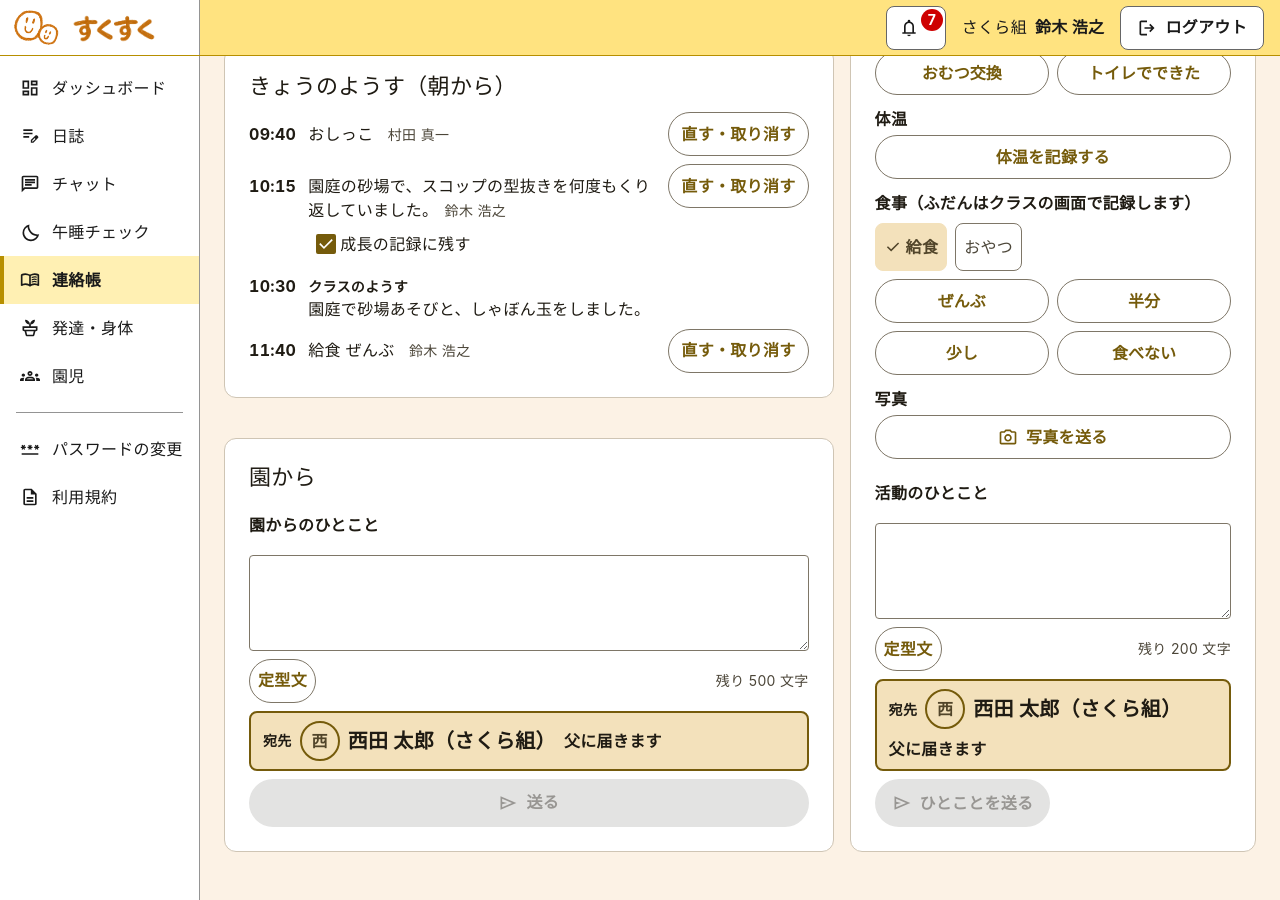
Test: 連絡帳（園児）画面：園からのひとこと › 定型文 → 候補 → 送るの3タップで送れる。「送る」のすぐ上に宛先（園児名・クラス・届く続柄）を大きく示す
(page scrolled)
Expected: the element "宛先" below "500" shows "西田 太郎（さくら組）", [249,711,809,771]
Expected: the element "宛先" below "500" shows "父に届きます", [564,731,662,751]
Click the button "定型文" in the row of "500".
click(282, 681)  # box [249,659,316,703]
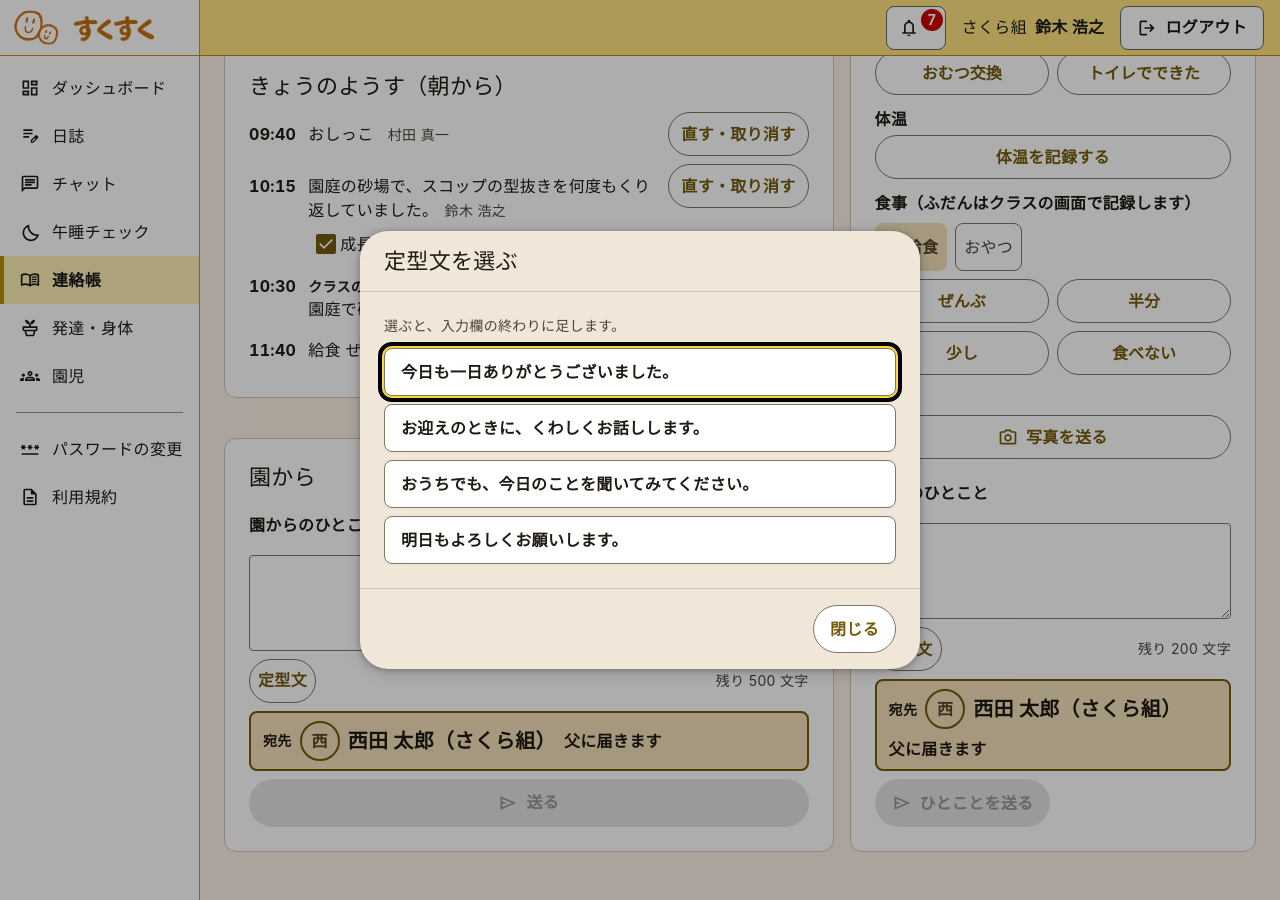
Click the button "今日も一日ありがとうございました。".
click(640, 372)  # box [384,348,896,396]
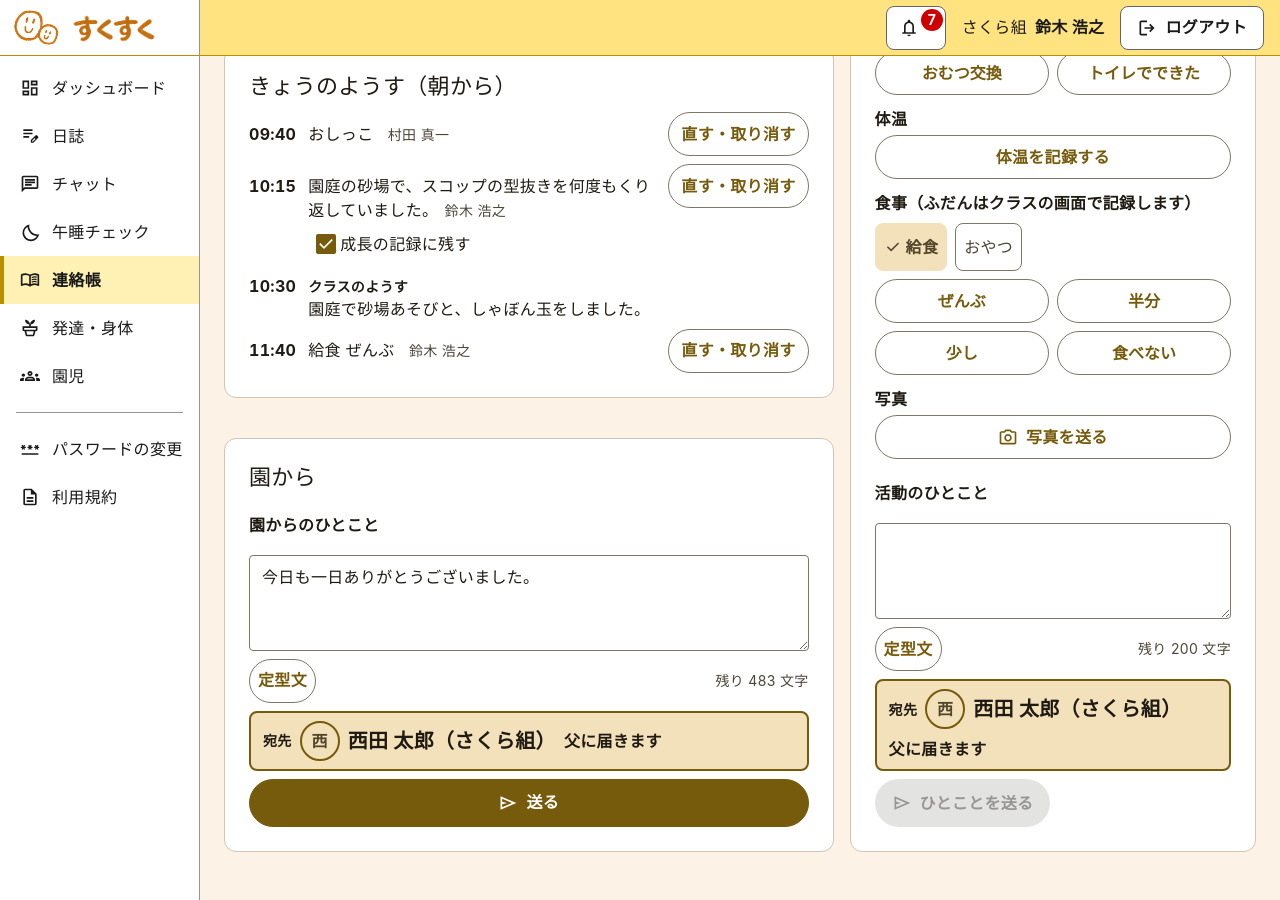
Expected: the text box labelled "園からのひとこと" holds "今日も一日ありがとうございました。", [249,555,809,651]
Click the button "送る".
click(529, 803)  # box [249,779,809,827]
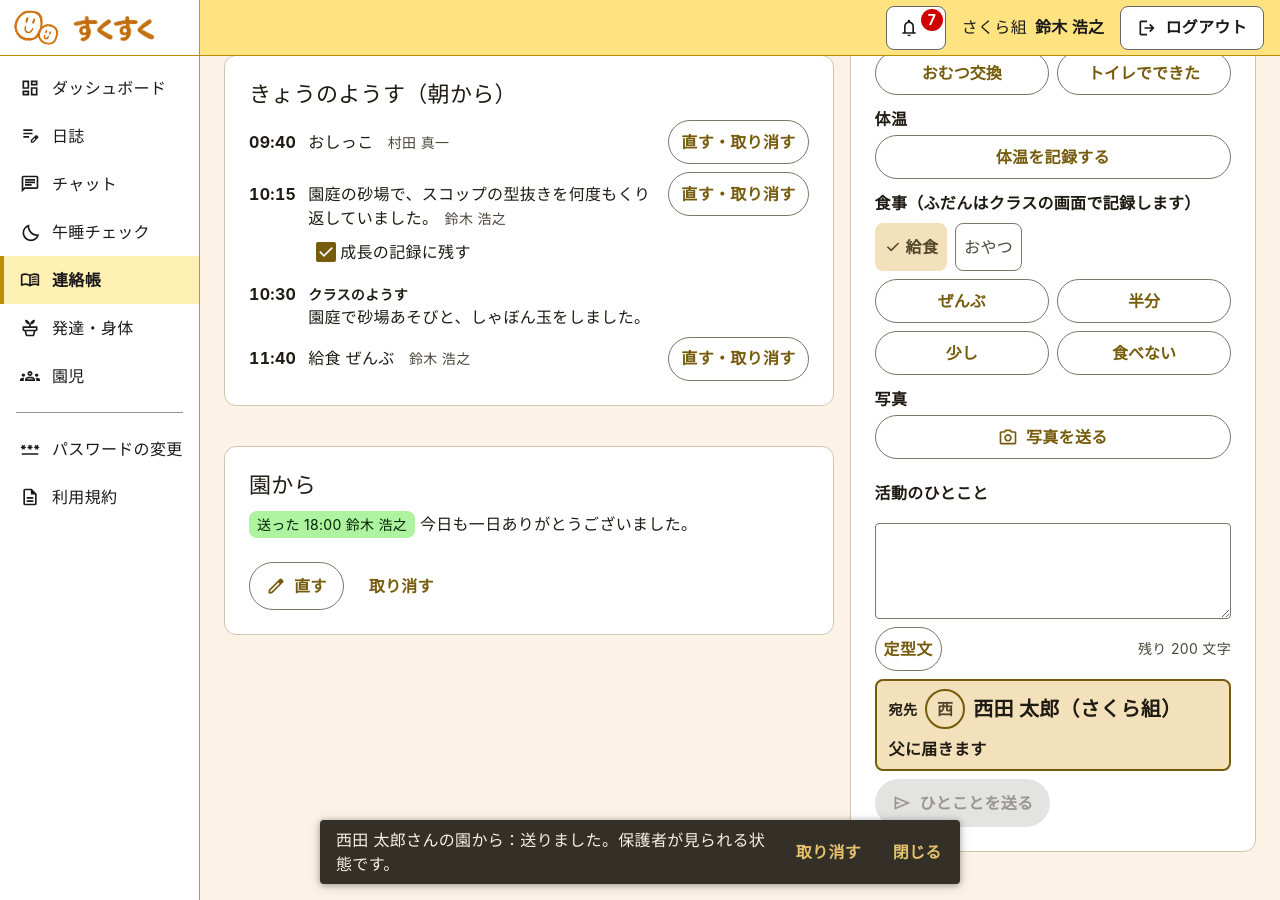
Expected: the message with class "toast" shows "西田 太郎さんの園から：送りました。保護者が見られる状態です。", [336,830,765,874]
Expected: the button "取り消す" next to "西田 太郎さんの園から：送りました。保護者が見られる状態です。" is shown, [786,830,870,874]
Expected: the button "直す" is shown, [249,562,344,610]
